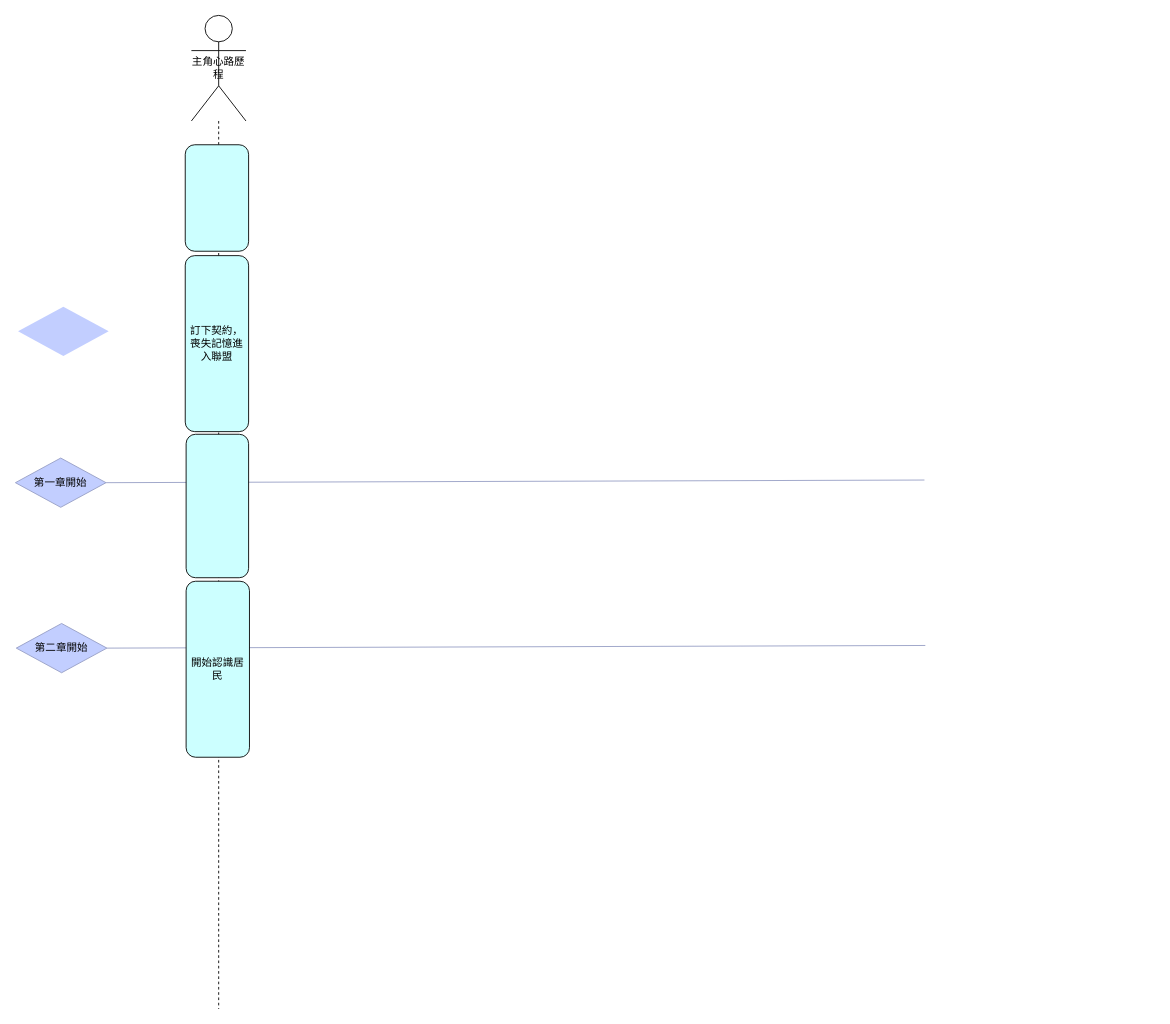
Some shapes in this 1170 by 1024 pixel diagram are drawn without their labels. Each missing label, with the centre of its shape:
"成為指揮官，對自己的職位深信不疑，只想著要完成任務" goes at point (217, 505).
"第零章開始" goes at point (63, 331).
"還在邪惡議會" goes at point (216, 197).
